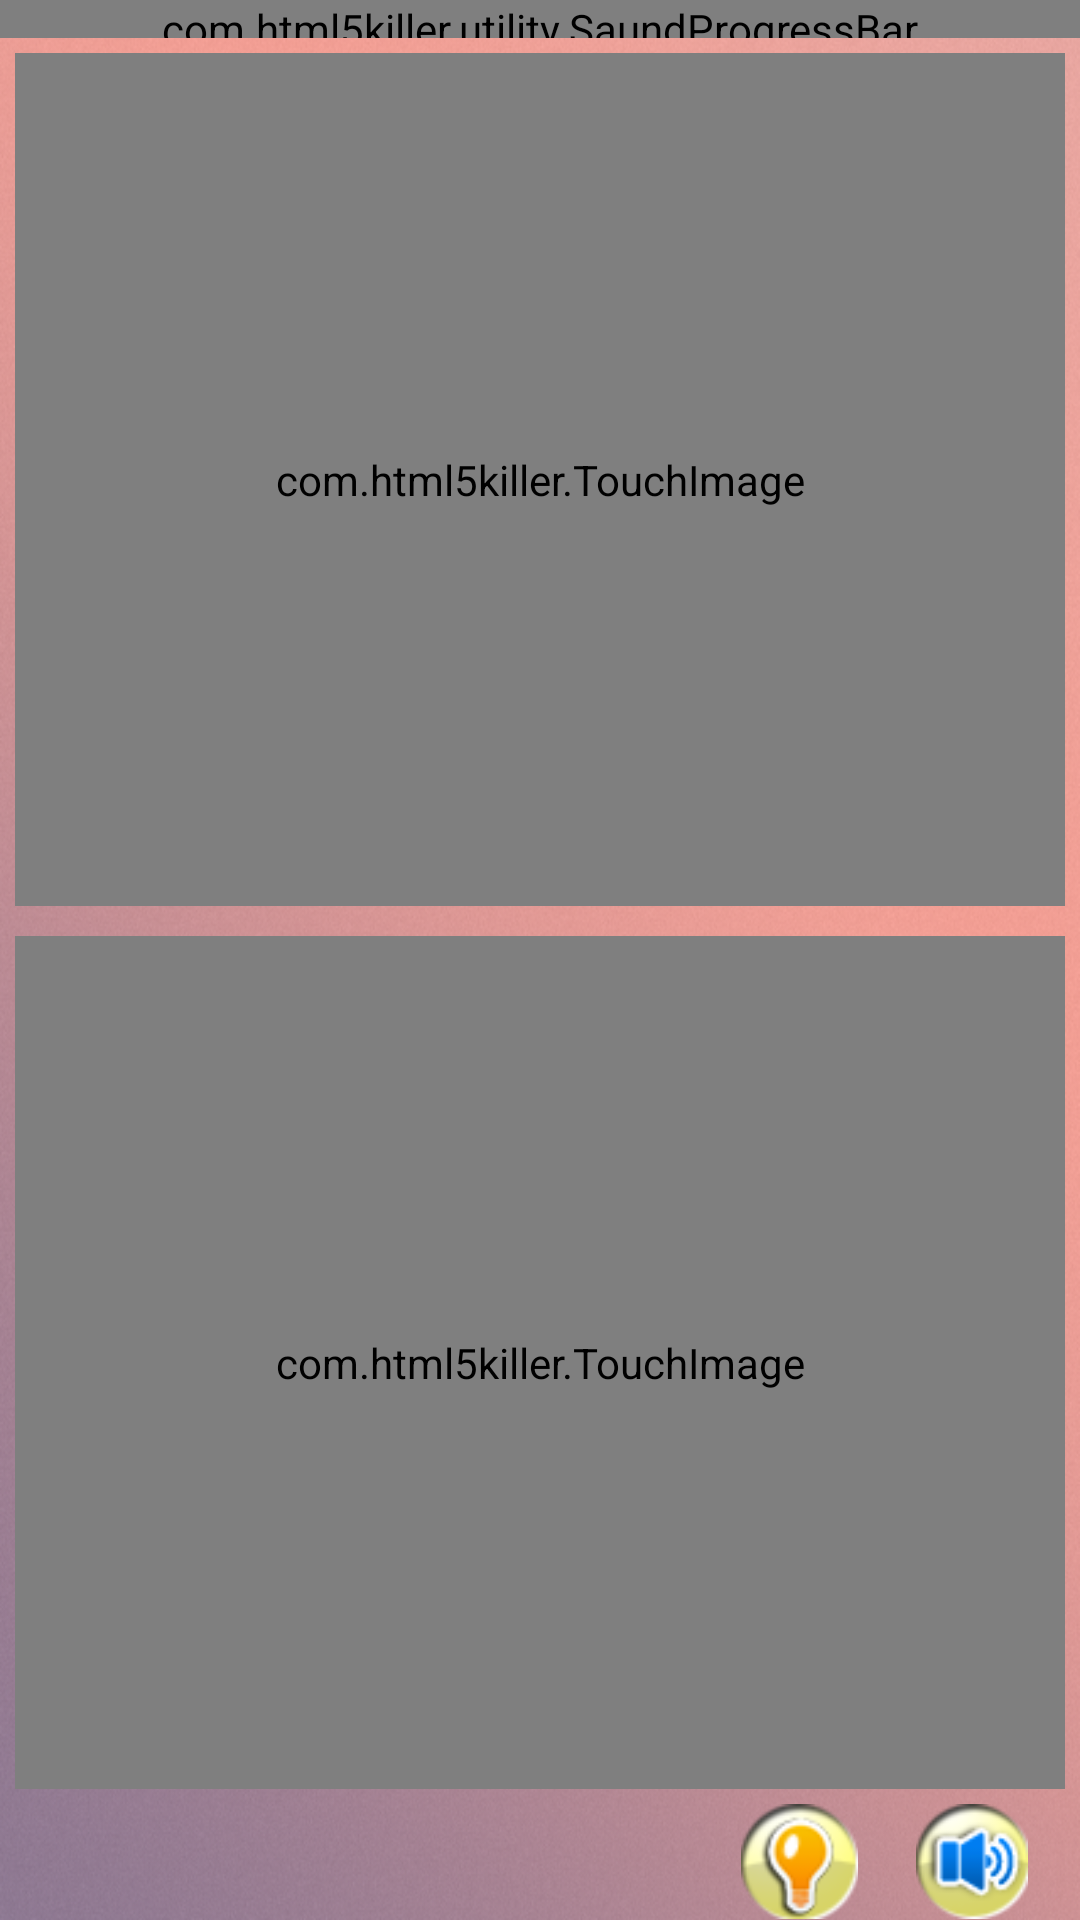

Screen size 1080*1920. Icon name, then its box in pixels as (x1, y1, x2, y2):
hint: (741, 1804, 858, 1919)
sound: (916, 1804, 1028, 1919)
